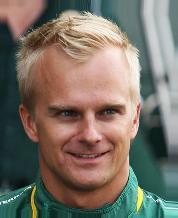face: (48, 102, 129, 169)
